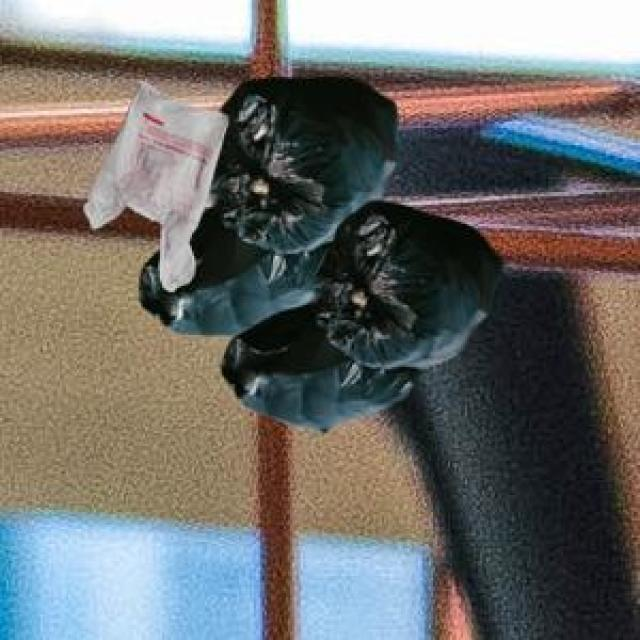miscellaneous trash: (134, 73, 393, 333), (218, 196, 497, 429)
